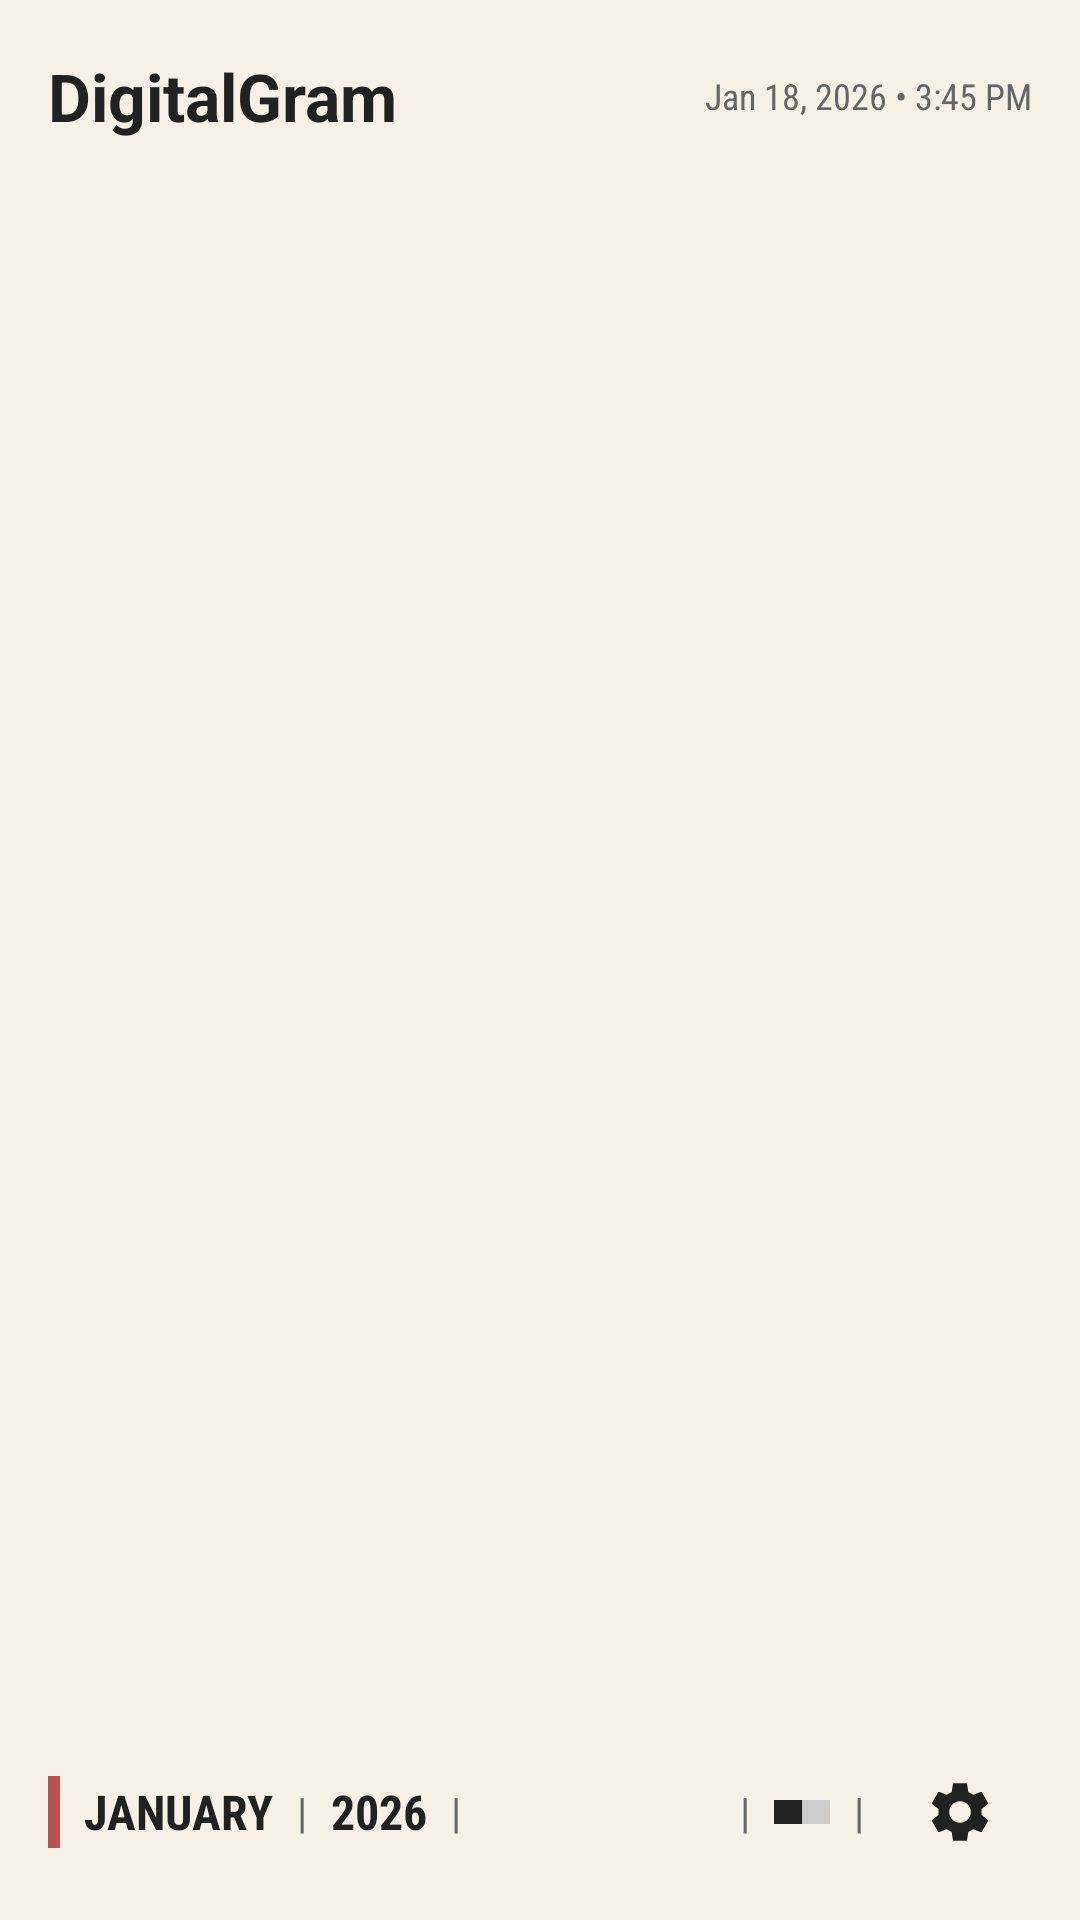

Named icons in this screenshot (1080 × 1920) and their bounding boxes, (x1=x1, y1=y1, x2=x2, y2=y2):
Settings: (x1=932, y1=1783, x2=988, y2=1841)
